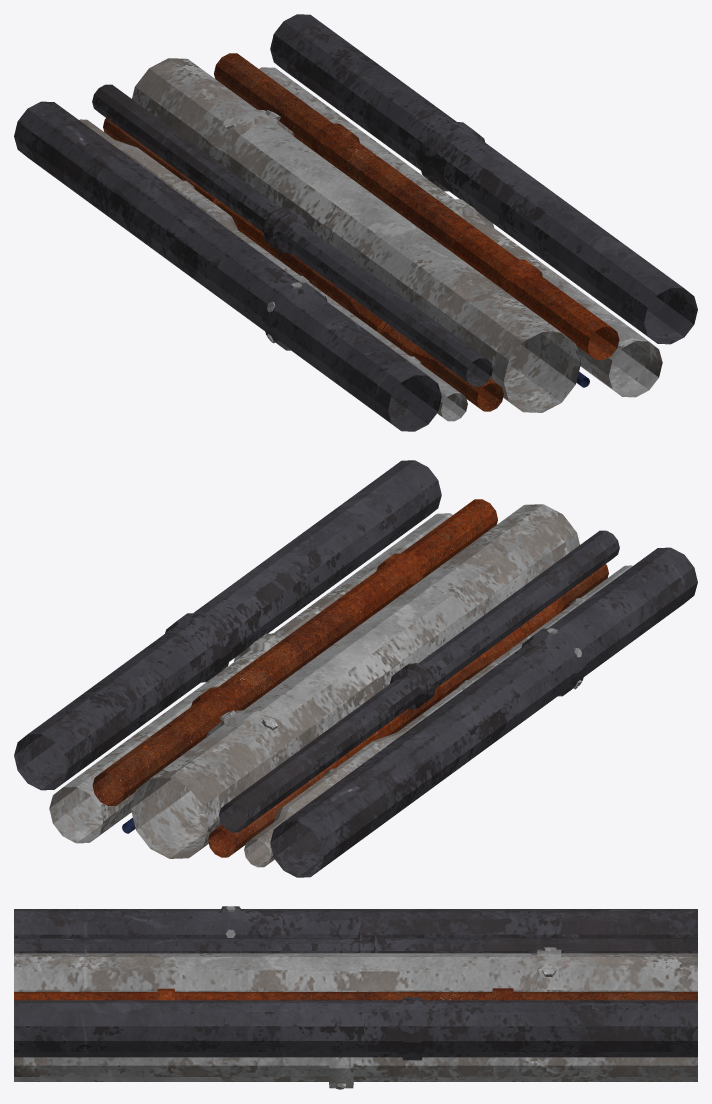
File: Straight Pipes.fbx
3 views of the same model, one above another, from view 1: azimuth 30°, elevation 25°; view 2: azimuth 150°, elevation 25°; view 3: azimuth 270°, elevation 25° (orthographic). The views are drawn at different scales.
Parts seen in each view (by area): view 1: Straight_Pipes; view 2: Straight_Pipes; view 3: Straight_Pipes.
Boxes of the visible parts, x1,y1,x2,y2 form: Straight_Pipes: (14,14,697,431); Straight_Pipes: (14,460,697,877); Straight_Pipes: (14,906,697,1089).
Bounding box in the file's own units: 2.44 × 0.8263 × 5.
